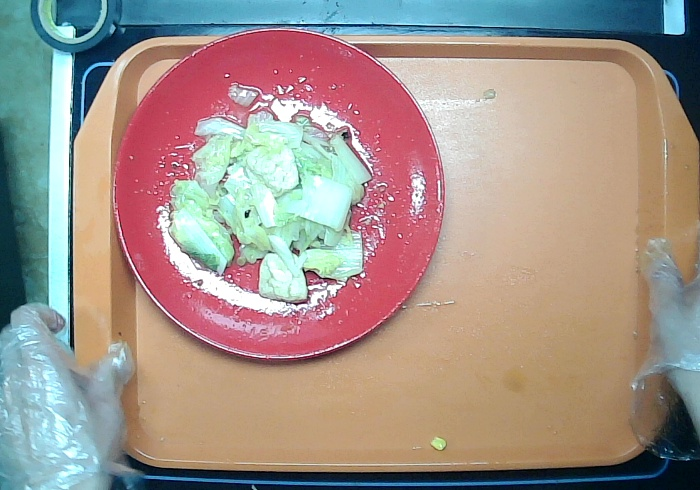HZYJPL-Hong_Se_Yuan_Pan: (106, 27, 450, 369)
